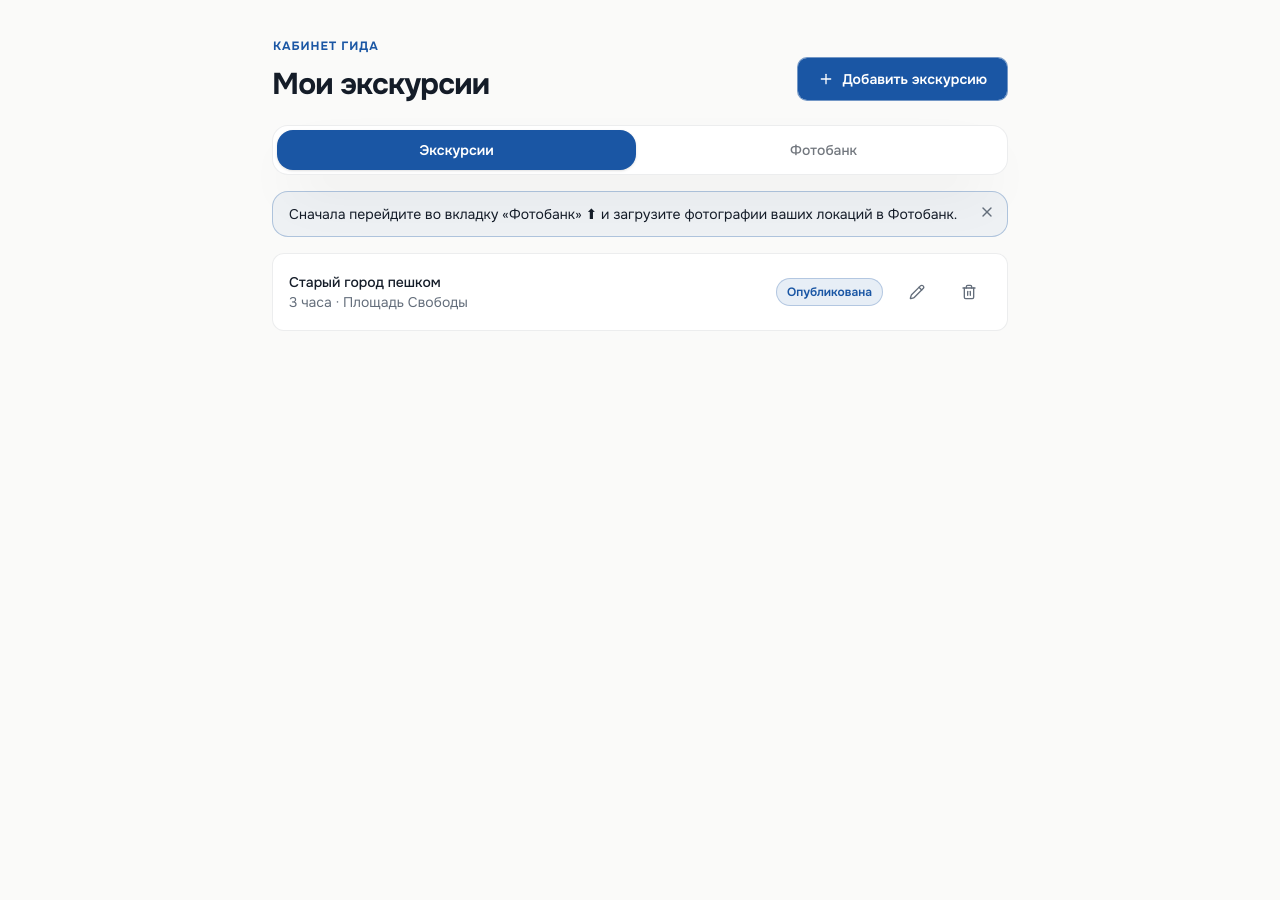
Scenario: GuideExcursionsScreen › prefills the edit form with the selected excursion values
Expected: the text "Старый город пешком" is shown, top-left (289, 273), bottom-right (441, 291)
Click the button named "Изменить": (917, 292) top-left (895, 270), bottom-right (939, 314)
(page scrolled)
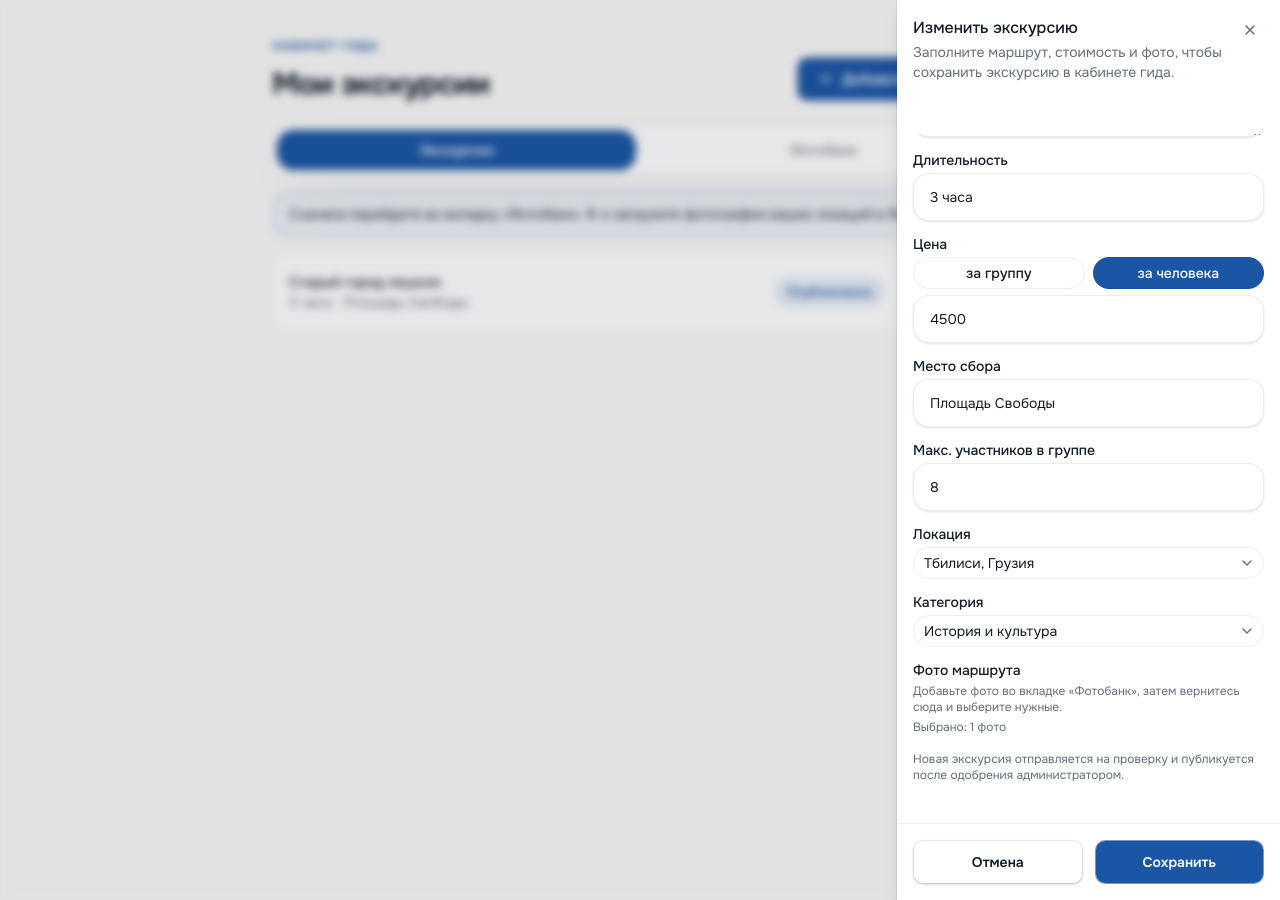
Result: the heading "Изменить экскурсию" is shown at top-left (913, 17), bottom-right (1078, 38)
Result: the field labelled "Длительность" holds "3 часа" at top-left (913, 173), bottom-right (1264, 221)
Result: the number field named "Цена, ₽" holds "4500" at top-left (913, 295), bottom-right (1264, 343)
